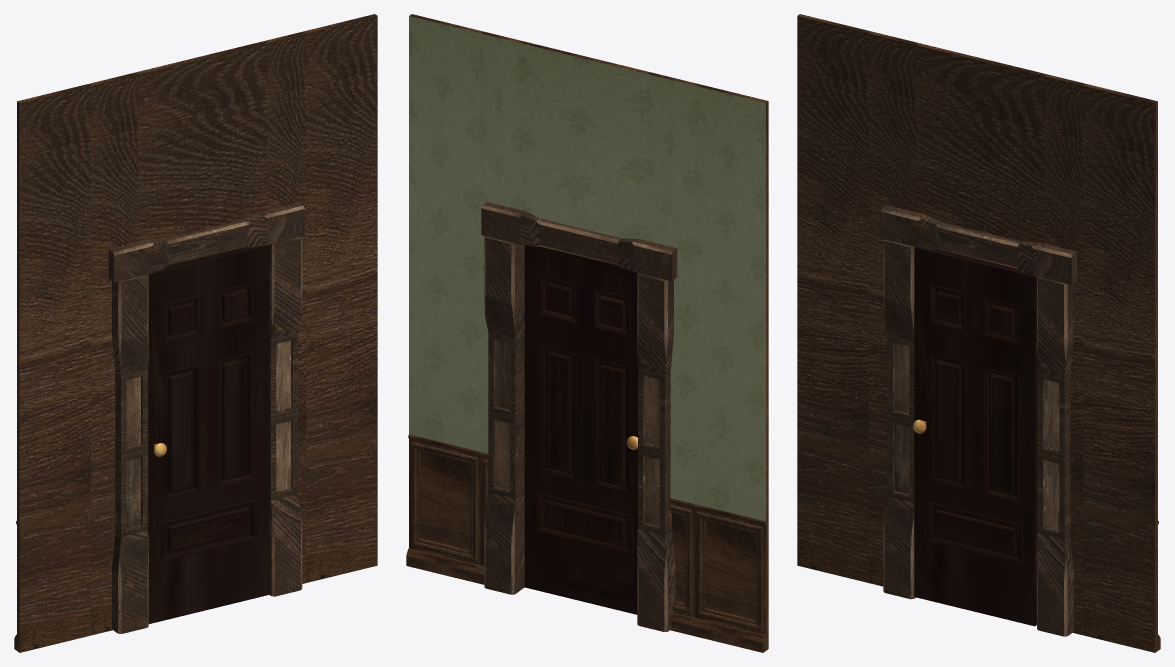
The model's file is MUR_PorteV1_KOT.fbx.
The picture shows the model from 3 angles, left to right: view 1: azimuth 30°, elevation 25°; view 2: azimuth 150°, elevation 25°; view 3: azimuth 330°, elevation 25°; orthographic projection.
Visible parts, largest first — view 1: Cube, Porte, Poutre_Laterale; view 2: Cube, Porte, Poutre_Laterale; view 3: Cube, Porte, Poutre_Laterale.
Boxes of the visible parts, <box> form: Cube: <box>14,14,377,652</box>; Porte: <box>148,244,269,623</box>; Poutre_Laterale: <box>108,202,304,633</box>; Cube: <box>406,14,768,652</box>; Porte: <box>524,245,637,614</box>; Poutre_Laterale: <box>481,202,677,631</box>; Cube: <box>797,14,1160,652</box>; Porte: <box>914,247,1037,626</box>; Poutre_Laterale: <box>880,205,1076,636</box>.
Size of the model in its own units: 750 by 1100 by 78.16.
